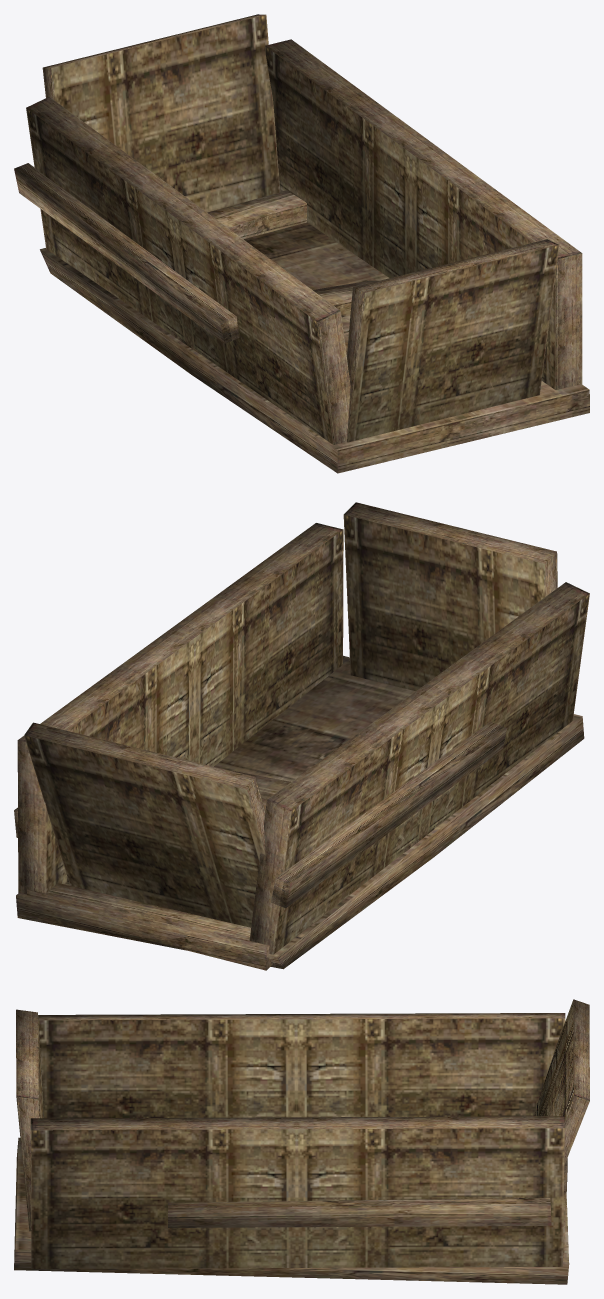
Rendered from S_Build_West066.FBX.
3 renders of one model, top to bottom at view 1: azimuth 30°, elevation 25°; view 2: azimuth 150°, elevation 25°; view 3: azimuth 270°, elevation 25°, orthographic. The views are drawn at different scales.
Visible parts, largest first — view 1: S_Build_West066; view 2: S_Build_West066; view 3: S_Build_West066.
Boxes of the visible parts, left/top/right/bottom form: S_Build_West066: left=14, top=14, right=589, bottom=473; S_Build_West066: left=14, top=502, right=589, bottom=970; S_Build_West066: left=14, top=999, right=589, bottom=1284.
Size of the model in its own units: 227 by 431 by 149.
